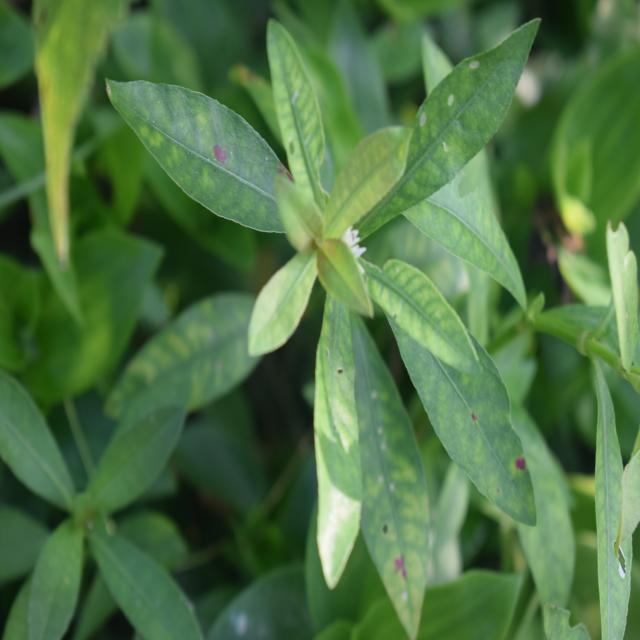Alligatorweed: (159, 14, 531, 598)
